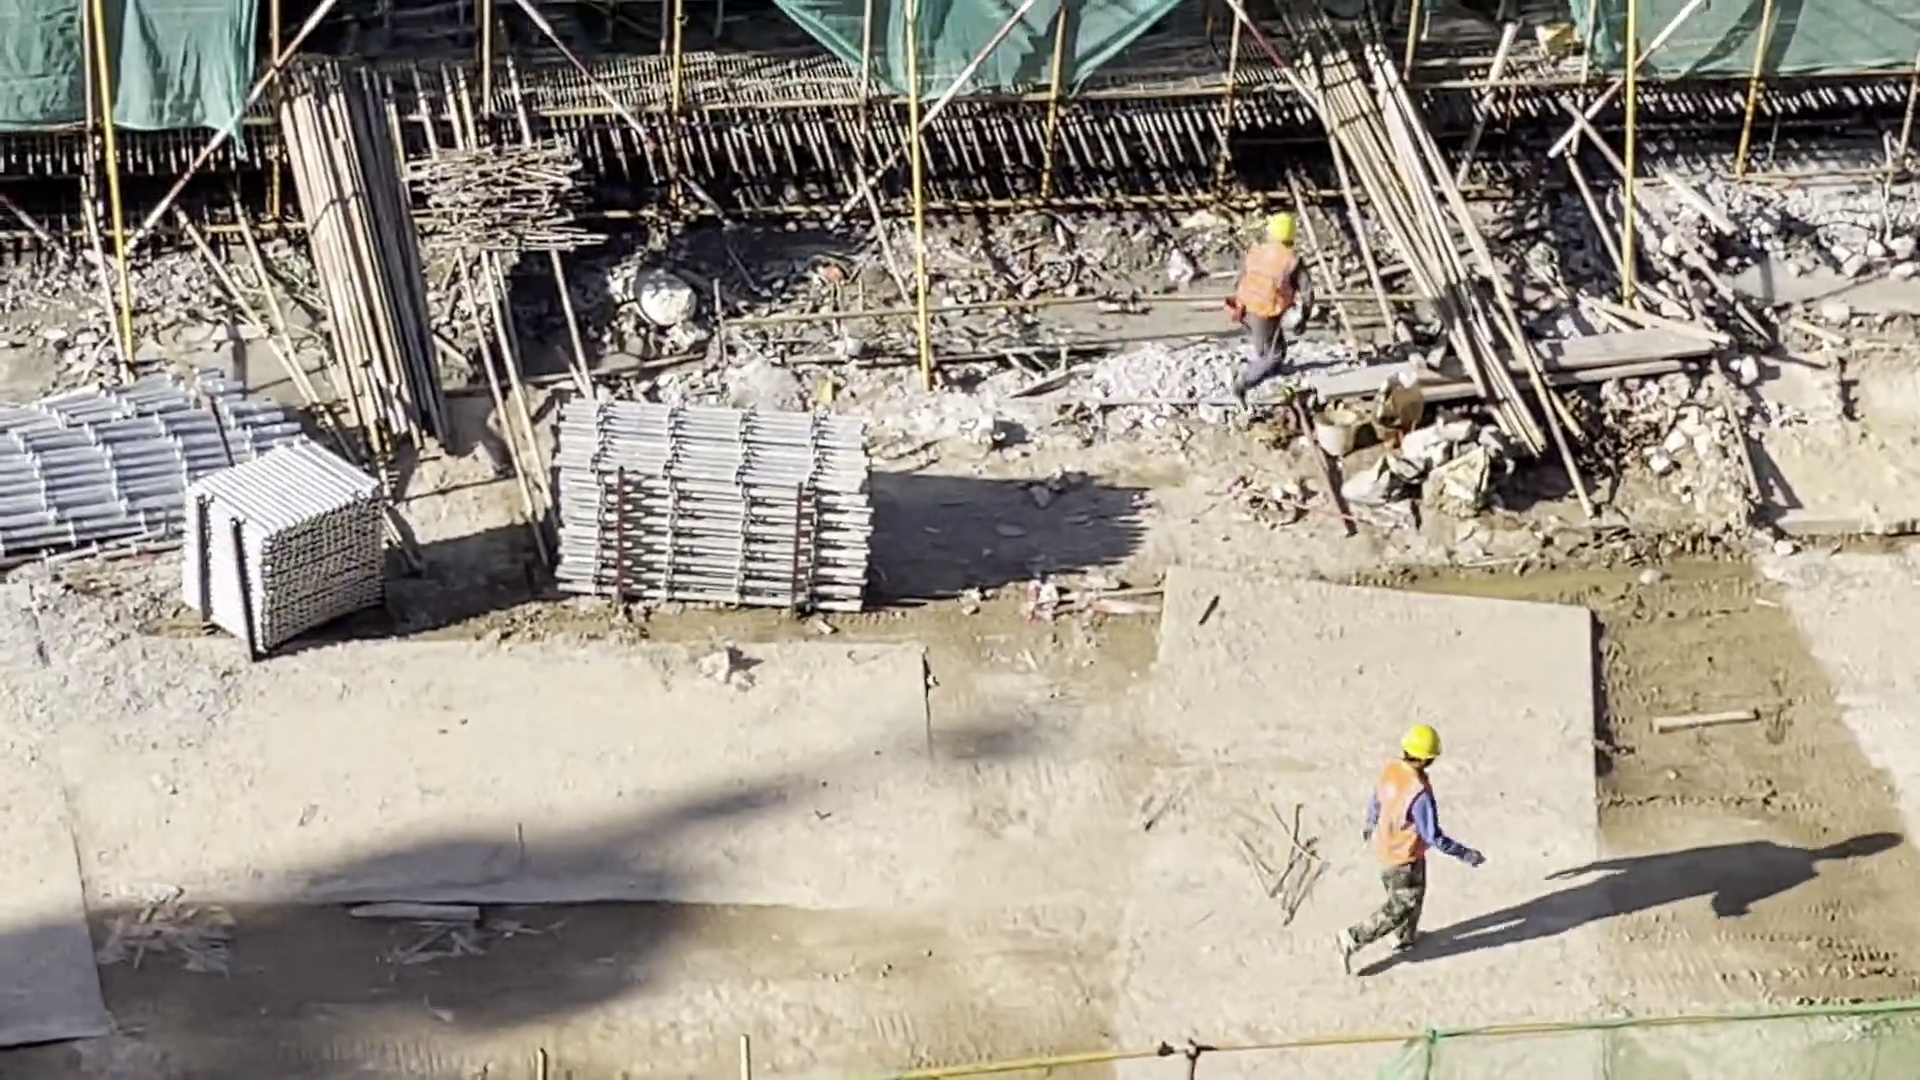helmet: (1391, 713, 1448, 771), (1255, 201, 1297, 246)
person: (1338, 697, 1496, 1000), (1204, 200, 1319, 427)
scaffold: (548, 372, 884, 643), (3, 375, 297, 571), (172, 425, 410, 654)
vest: (1366, 760, 1432, 876), (1225, 243, 1303, 328)
